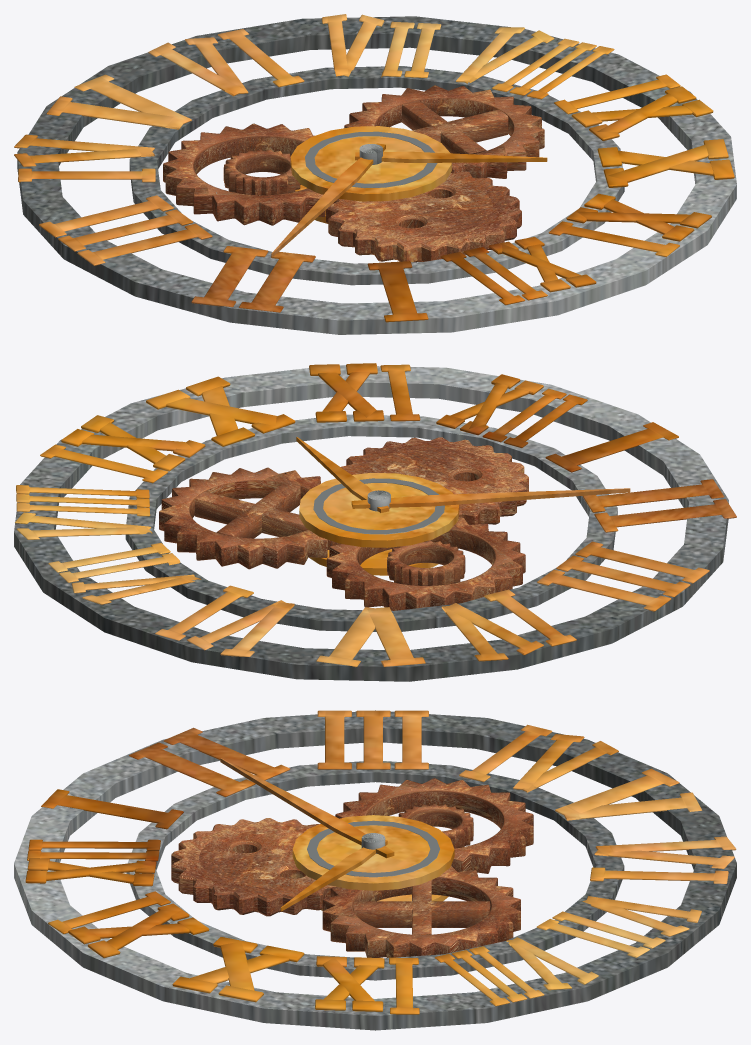
Rendered from 機械仕掛けの時計.fbx.
3 renders of one model, top to bottom at view 1: azimuth 30°, elevation 25°; view 2: azimuth 150°, elevation 25°; view 3: azimuth 270°, elevation 25°, orthographic.
Visible parts, largest first — view 1: 黒円, 数字, 穴が開いた歯車, 二重歯車, 十字歯車, 軸, 長針, 短針; view 2: 黒円, 数字, 十字歯車, 二重歯車, 穴が開いた歯車, 軸, 長針, 短針; view 3: 黒円, 数字, 十字歯車, 穴が開いた歯車, 二重歯車, 軸, 長針, 短針.
Part boxes in pixels (left/top/right/bottom): 黒円: left=17, top=16, right=736, bottom=334; 数字: left=14, top=14, right=734, bottom=322; 穴が開いた歯車: left=326, top=171, right=521, bottom=262; 二重歯車: left=163, top=123, right=325, bottom=225; 十字歯車: left=344, top=85, right=544, bottom=178; 軸: left=290, top=126, right=451, bottom=223; 長針: left=271, top=143, right=385, bottom=257; 短針: left=355, top=151, right=547, bottom=162; 黒円: left=14, top=365, right=728, bottom=681; 数字: left=15, top=363, right=736, bottom=667; 十字歯車: left=159, top=467, right=339, bottom=569; 二重歯車: left=326, top=517, right=525, bottom=610; 穴が開いた歯車: left=340, top=437, right=528, bottom=524; 軸: left=299, top=473, right=459, bottom=575; 長針: left=351, top=488, right=630, bottom=508; 短針: left=296, top=437, right=389, bottom=512; 黒円: left=14, top=710, right=736, bottom=1030; 数字: left=25, top=710, right=736, bottom=1014; 十字歯車: left=322, top=866, right=520, bottom=957; 穴が開いた歯車: left=171, top=818, right=336, bottom=916; 二重歯車: left=335, top=778, right=533, bottom=873; 軸: left=292, top=815, right=454, bottom=910; 長針: left=220, top=758, right=394, bottom=858; 短針: left=280, top=840, right=387, bottom=911.
Bounding box in the file's own units: 833 × 60.02 × 833.
Materials: 4 (4 with a texture image).
